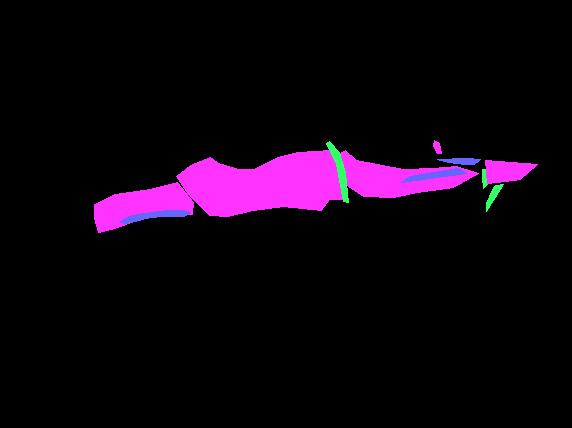Broken part: (326, 141, 348, 202), (486, 184, 503, 211), (482, 169, 489, 188)
Dent: (176, 150, 342, 216), (337, 150, 478, 197), (94, 182, 193, 232), (485, 160, 537, 183), (433, 140, 441, 153)
Scratch: (119, 210, 190, 223), (401, 168, 466, 182), (437, 158, 480, 164)
